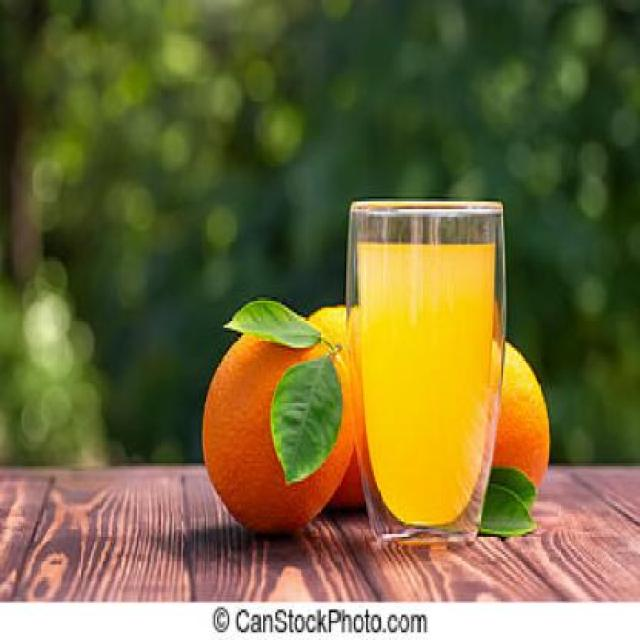Orange: (200, 304, 355, 534), (491, 337, 551, 489)
